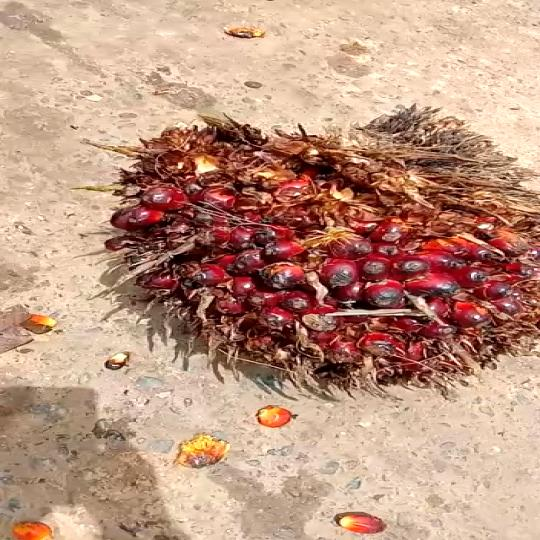masak: (74, 83, 540, 415)
